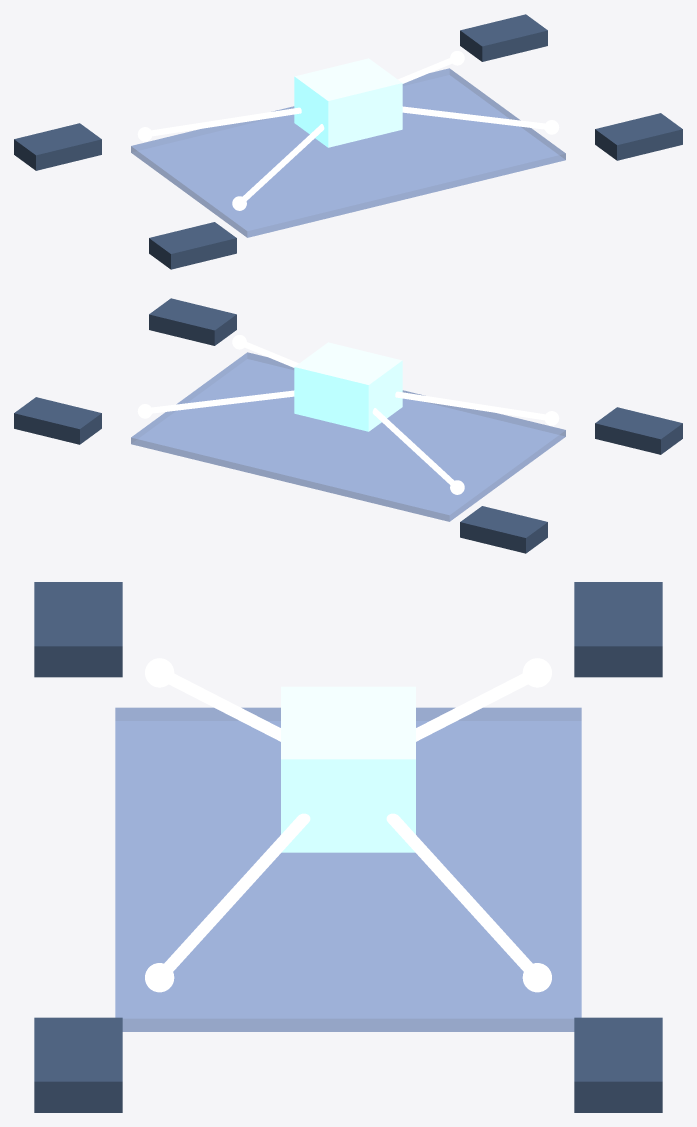
Rendered from hub.glb.
3 views of the same model, one above another, from view 1: azimuth 30°, elevation 25°; view 2: azimuth 150°, elevation 25°; view 3: azimuth 270°, elevation 25° (orthographic). The views are drawn at different scales.
Visible parts, largest first — view 1: Platform, Core, Tile_PostgreSQL, Tile_BigQuery, Tile_Snowflake, Tile_NetSuite, Tube_PostgreSQL, Tube_BigQuery, Tube_NetSuite, Tube_Snowflake; view 2: Platform, Core, Tile_Snowflake, Tile_NetSuite, Tile_PostgreSQL, Tile_BigQuery, Tube_NetSuite, Tube_Snowflake, Tube_PostgreSQL, Tube_BigQuery; view 3: Platform, Core, Tile_PostgreSQL, Tile_Snowflake, Tile_NetSuite, Tile_BigQuery, Tube_Snowflake, Tube_BigQuery, Tube_PostgreSQL, Tube_NetSuite.
Part boxes in pixels (x1,y1,x2,y2): Platform: [131, 68, 565, 237]; Core: [294, 58, 402, 147]; Tile_PostgreSQL: [14, 123, 101, 170]; Tile_BigQuery: [595, 113, 682, 160]; Tile_Snowflake: [460, 14, 547, 61]; Tile_NetSuite: [149, 222, 236, 269]; Tube_PostgreSQL: [151, 107, 301, 136]; Tube_BigQuery: [402, 106, 545, 129]; Tube_NetSuite: [242, 124, 324, 200]; Tube_Snowflake: [398, 56, 456, 83]; Platform: [131, 352, 565, 521]; Core: [294, 342, 402, 431]; Tile_Snowflake: [14, 397, 101, 444]; Tile_NetSuite: [595, 407, 682, 454]; Tile_PostgreSQL: [460, 506, 547, 553]; Tile_BigQuery: [149, 298, 236, 345]; Tube_NetSuite: [395, 391, 545, 420]; Tube_Snowflake: [151, 390, 294, 413]; Tube_PostgreSQL: [372, 408, 454, 484]; Tube_BigQuery: [240, 340, 298, 367]; Platform: [115, 707, 581, 1031]; Core: [281, 686, 415, 852]; Tile_PostgreSQL: [574, 582, 662, 677]; Tile_Snowflake: [574, 1017, 662, 1112]; Tile_NetSuite: [34, 582, 122, 677]; Tile_BigQuery: [34, 1017, 122, 1112]; Tube_Snowflake: [386, 813, 532, 971]; Tube_BigQuery: [164, 813, 310, 971]; Tube_PostgreSQL: [416, 670, 536, 741]; Tube_NetSuite: [160, 670, 280, 741].
Size of the model in its own units: 4.82 by 0.69 by 2.56.
